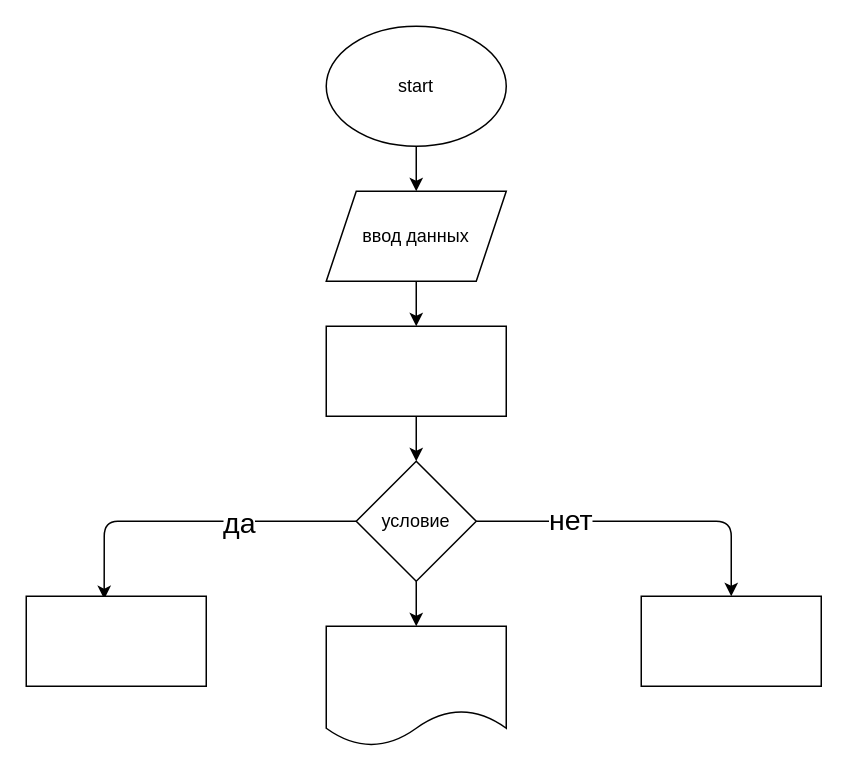
Image size: 848x773. Some labels were removed from this diagram. Each missing label, with the box of its shape:
вывод данных: (325, 625, 506, 746)
действие: (325, 325, 506, 416)
